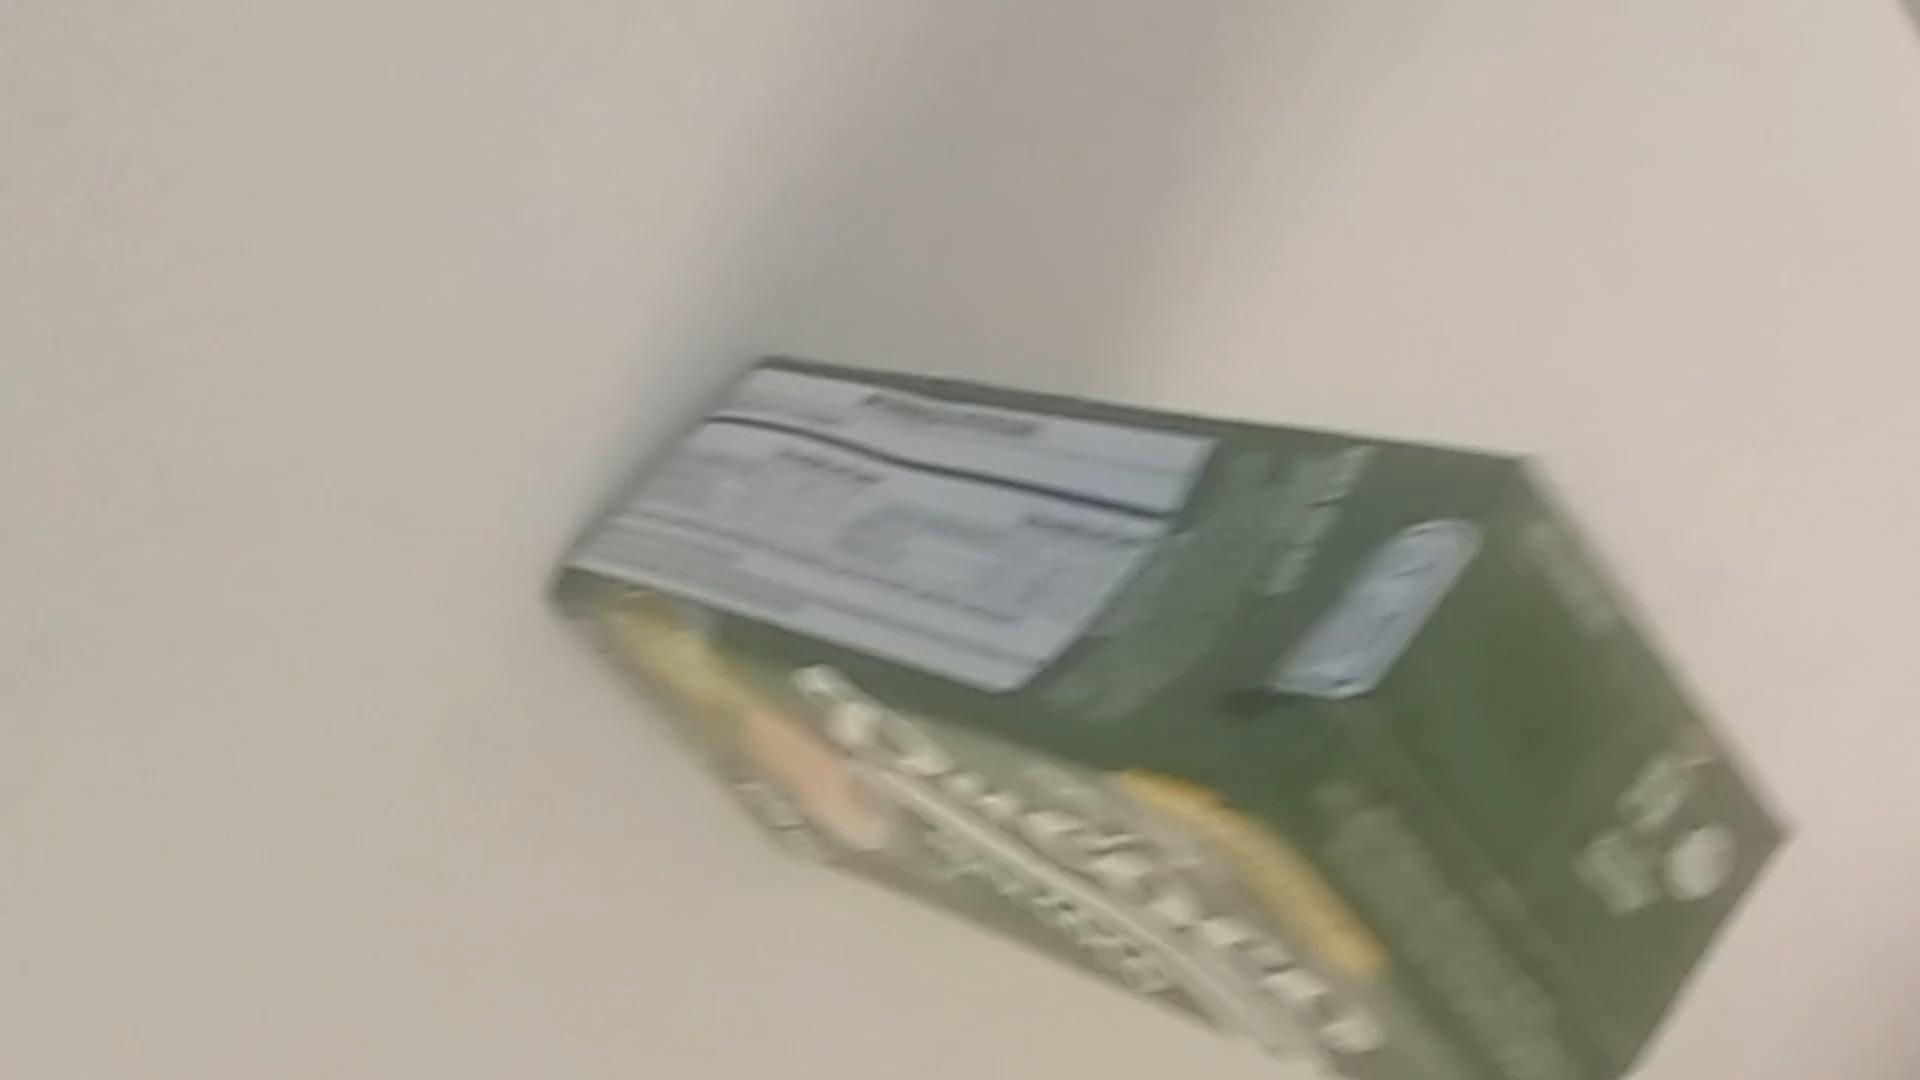coco: (553, 352, 1778, 1080)
